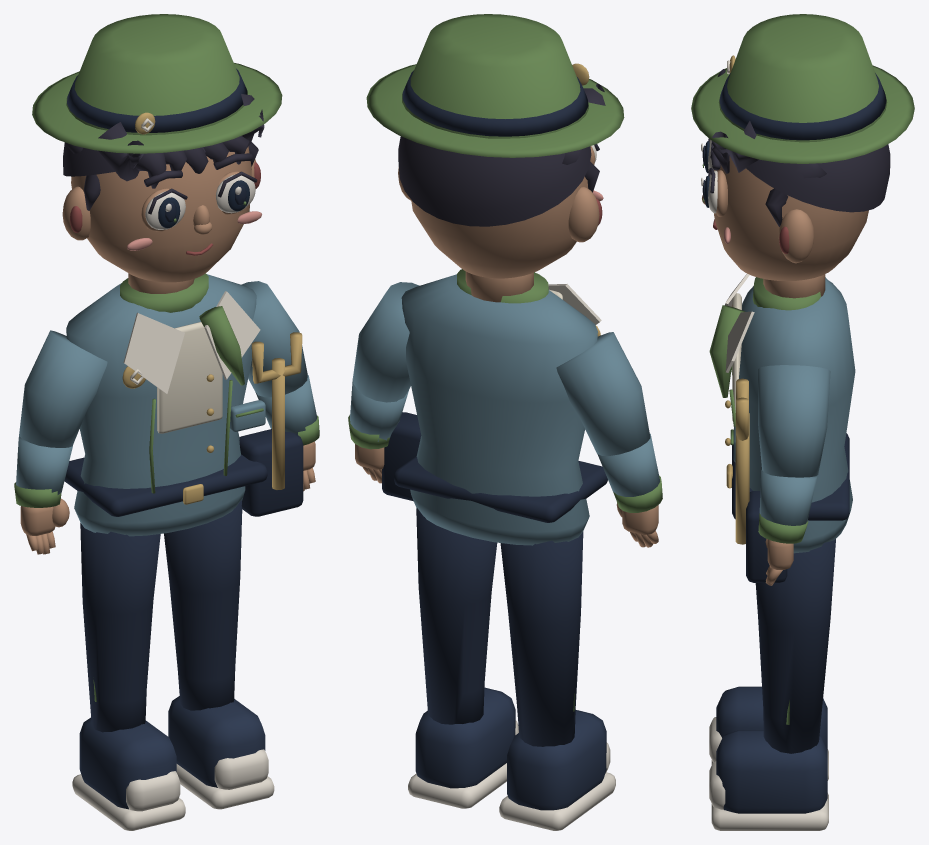
The model's file is npc_farmtown_trainer_4.glb.
The picture shows the model from 3 angles, left to right: view 1: azimuth 30°, elevation 25°; view 2: azimuth 150°, elevation 25°; view 3: azimuth 270°, elevation 25°; orthographic projection. The views are drawn at different scales.
Visible parts, largest first — view 1: figure.037; view 2: figure.037; view 3: figure.037.
Boxes of the visible parts, left/top/right/bottom form: figure.037: left=14, top=14, right=319, bottom=830; figure.037: left=348, top=14, right=662, bottom=830; figure.037: left=691, top=14, right=914, bottom=830.
Bounding box in the file's own units: 0.6587 × 1.58 × 0.4221.
